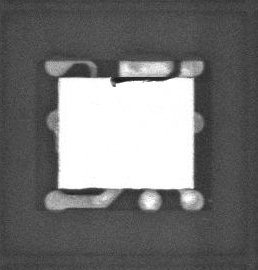DIE_BROKEN: (108, 74, 180, 86)
